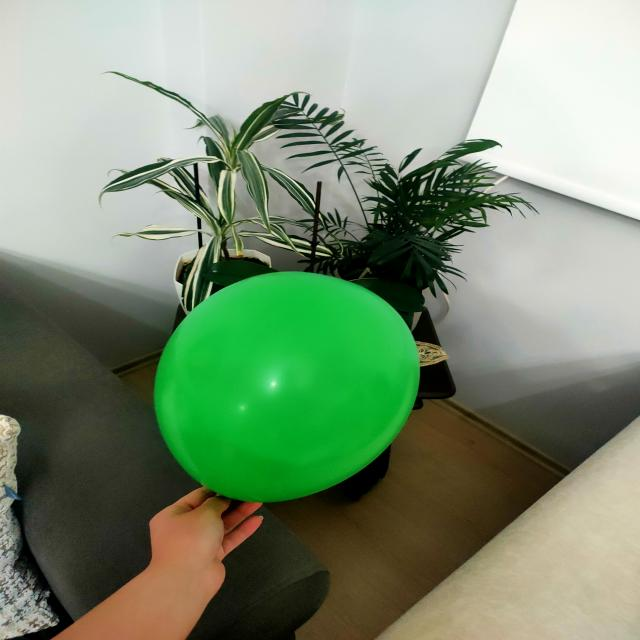green: (152, 274, 422, 503)
